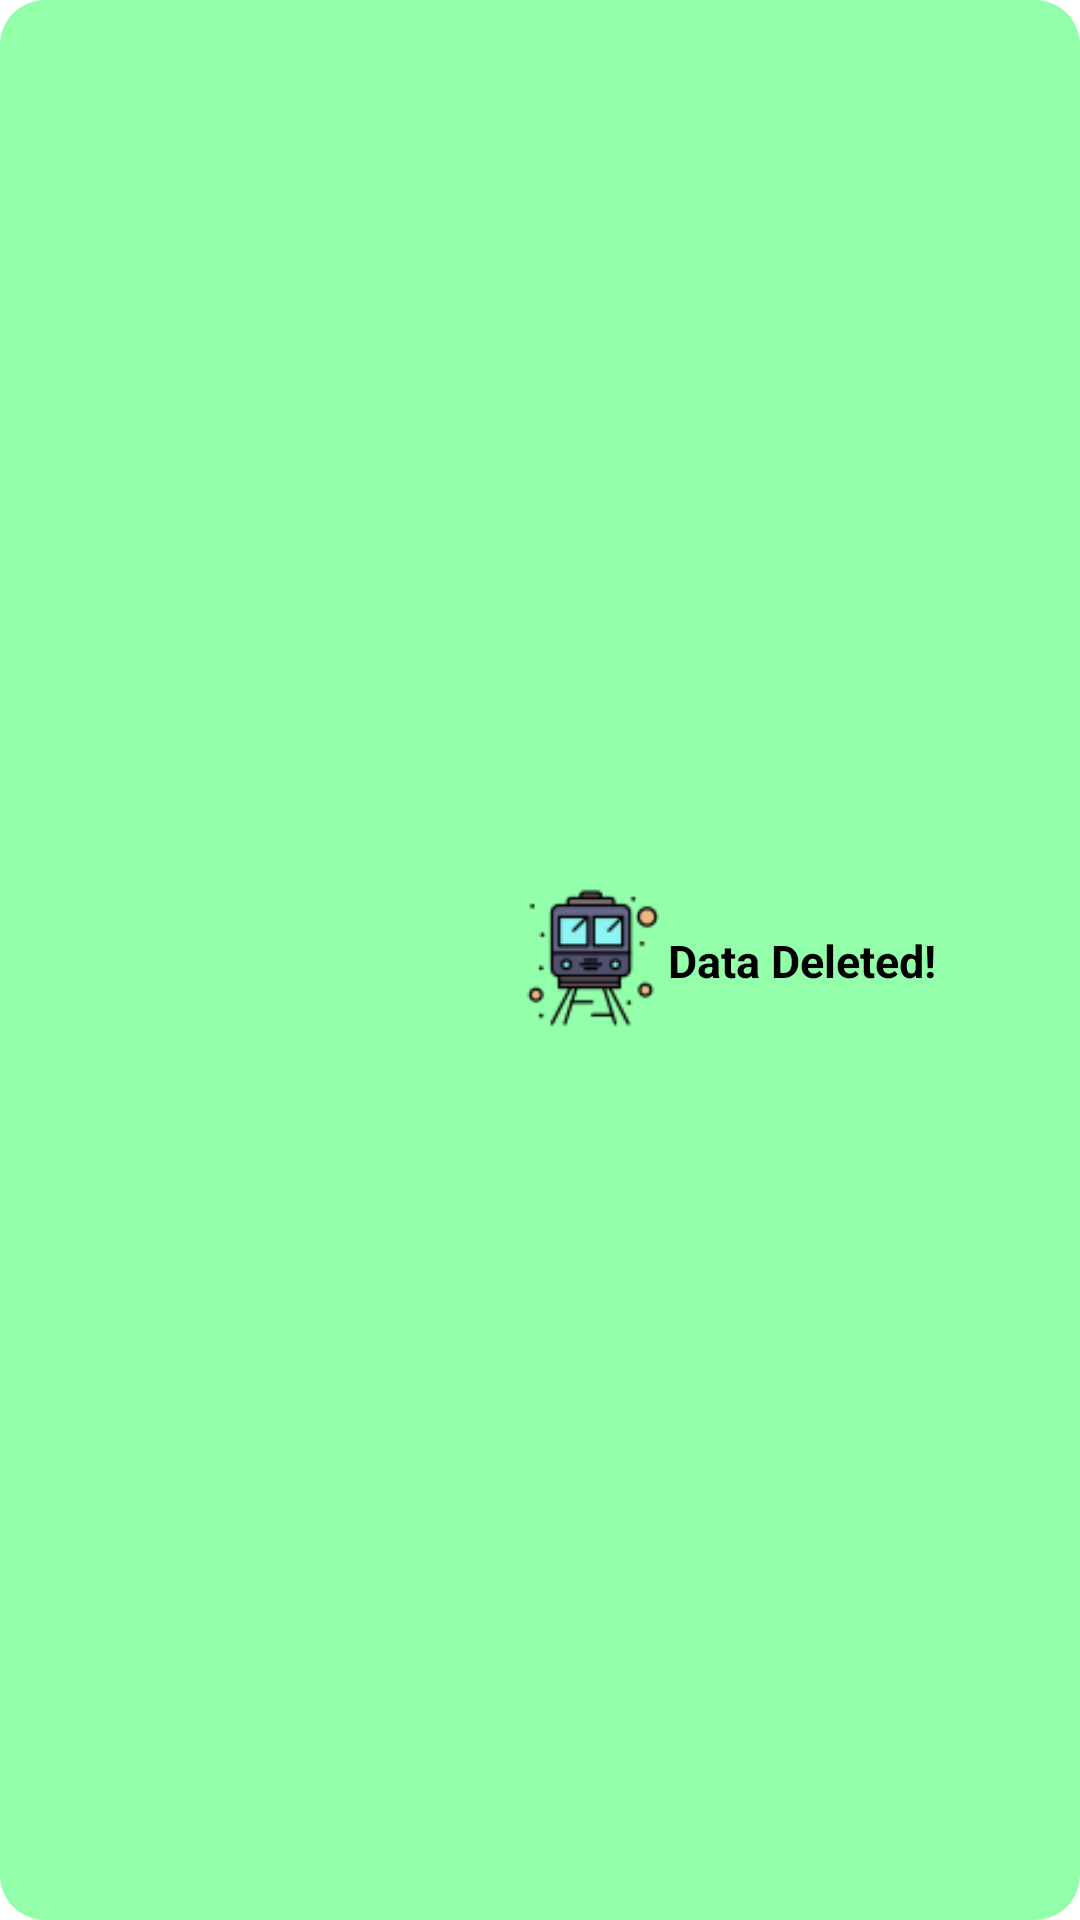

Where to tap for icons on this 1080px x 1920px app screen, as point (x, y):
toast train: point (593, 958)
